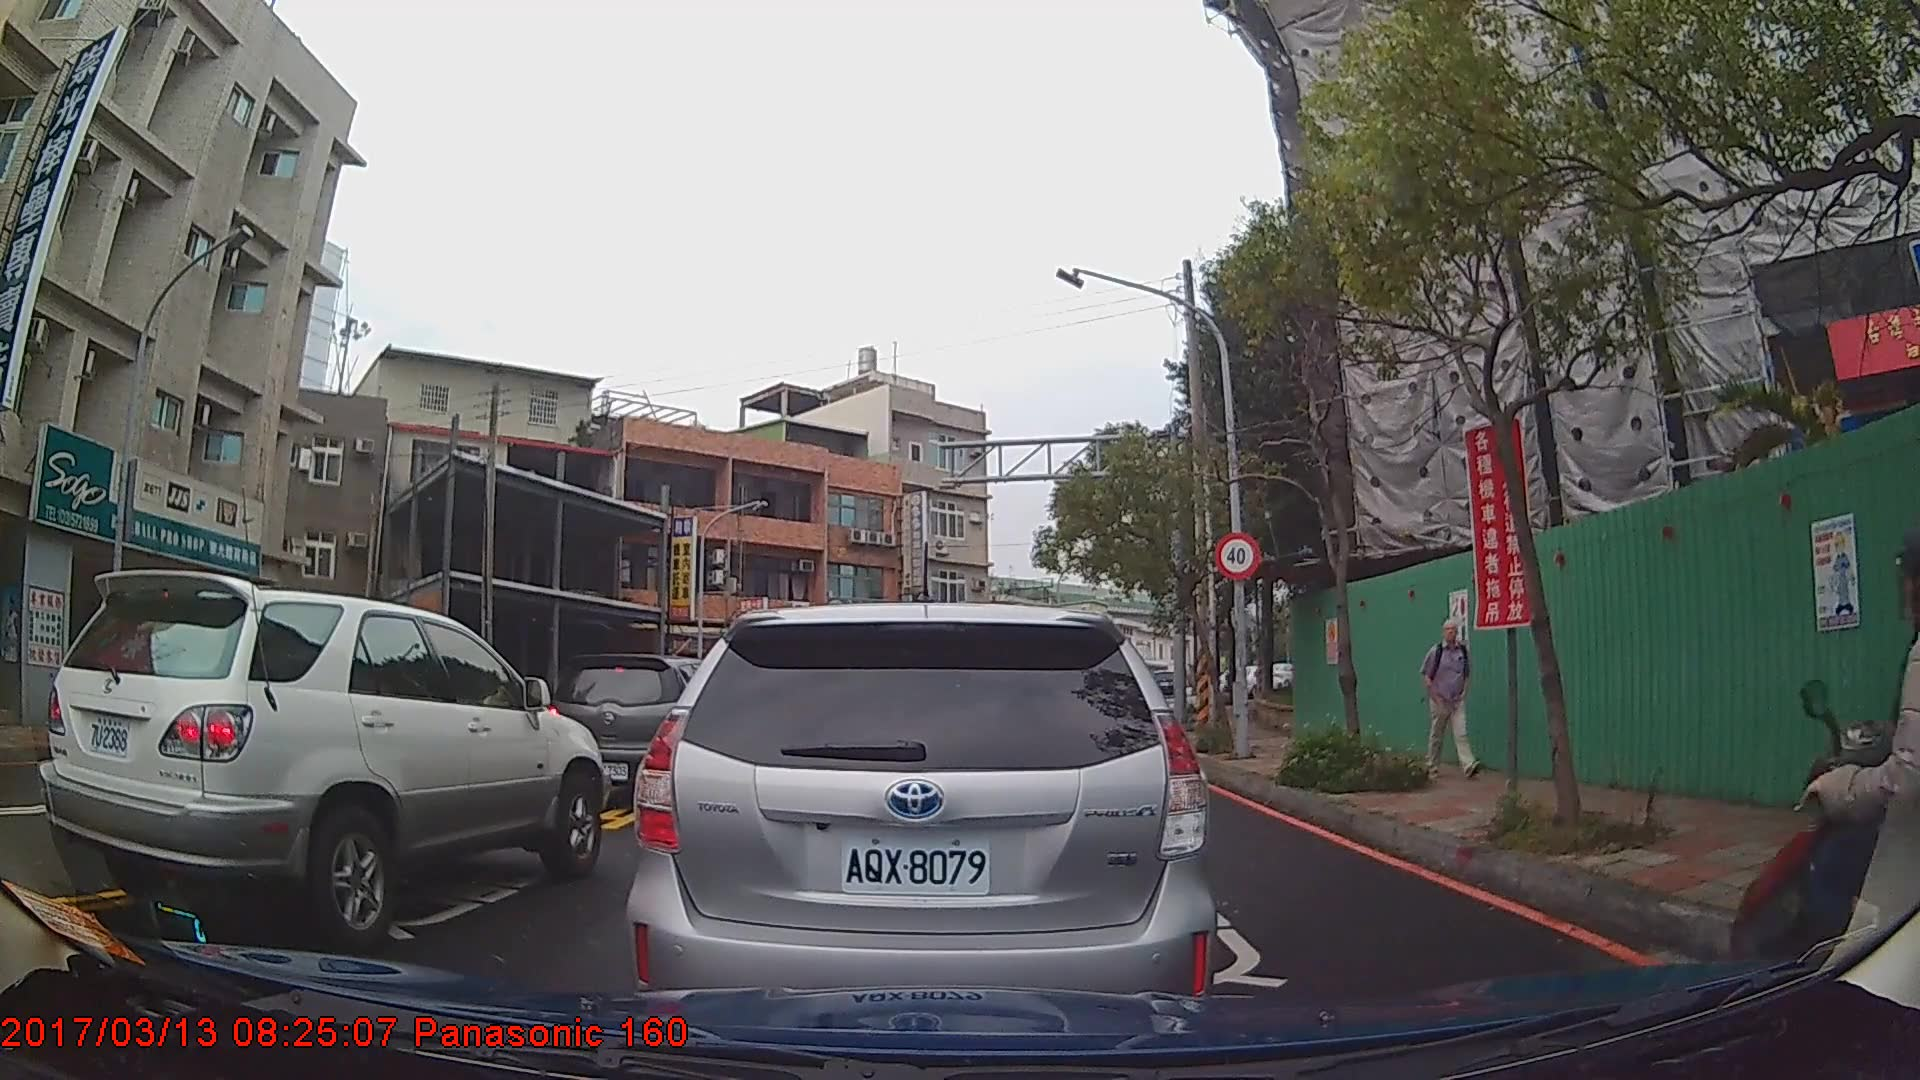pedestrian: (1419, 615, 1484, 776)
rider: (1731, 520, 1920, 1080)
vehicle: (622, 601, 1216, 1037), (39, 567, 609, 947), (551, 649, 750, 801)
